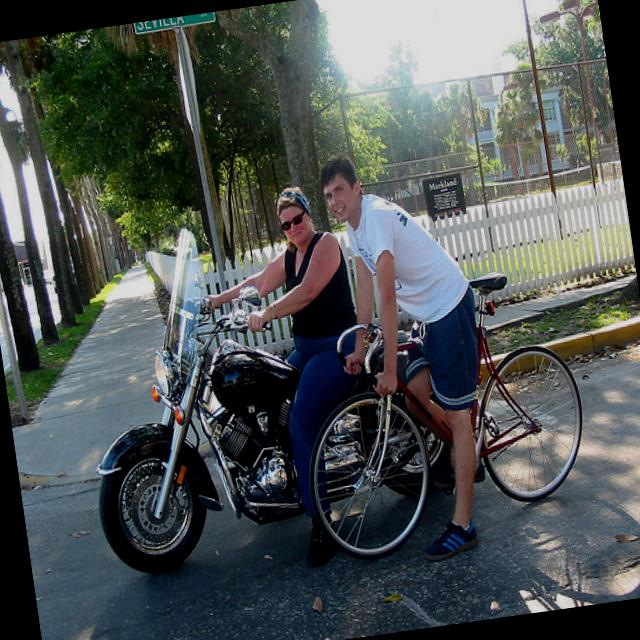Vehicle: (63, 215, 329, 580)
